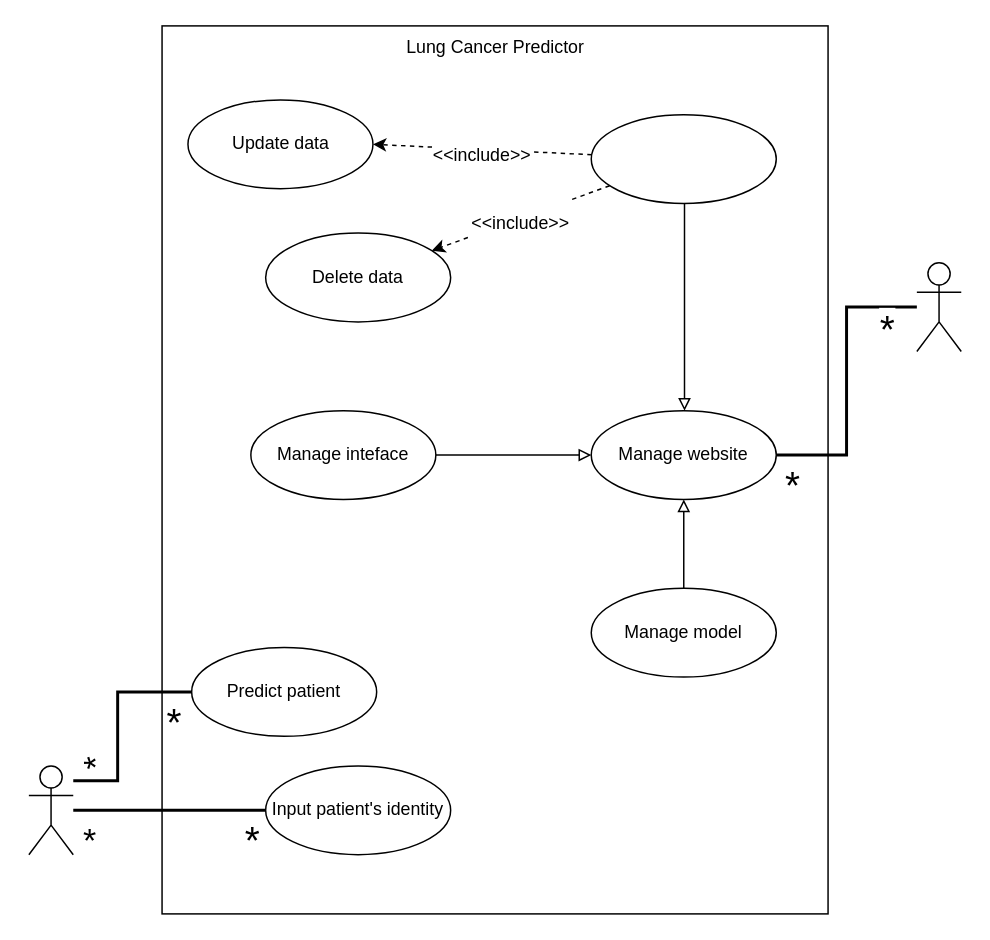
Image size: 990x940. Some labels were removed from this diagram. Here are the shapes that lost their labels. From the top down, the centre of each, then its label:
At [683,158]: "Manage database".
At [938,306]: "Admin".
At [50,809]: "Doctor".
